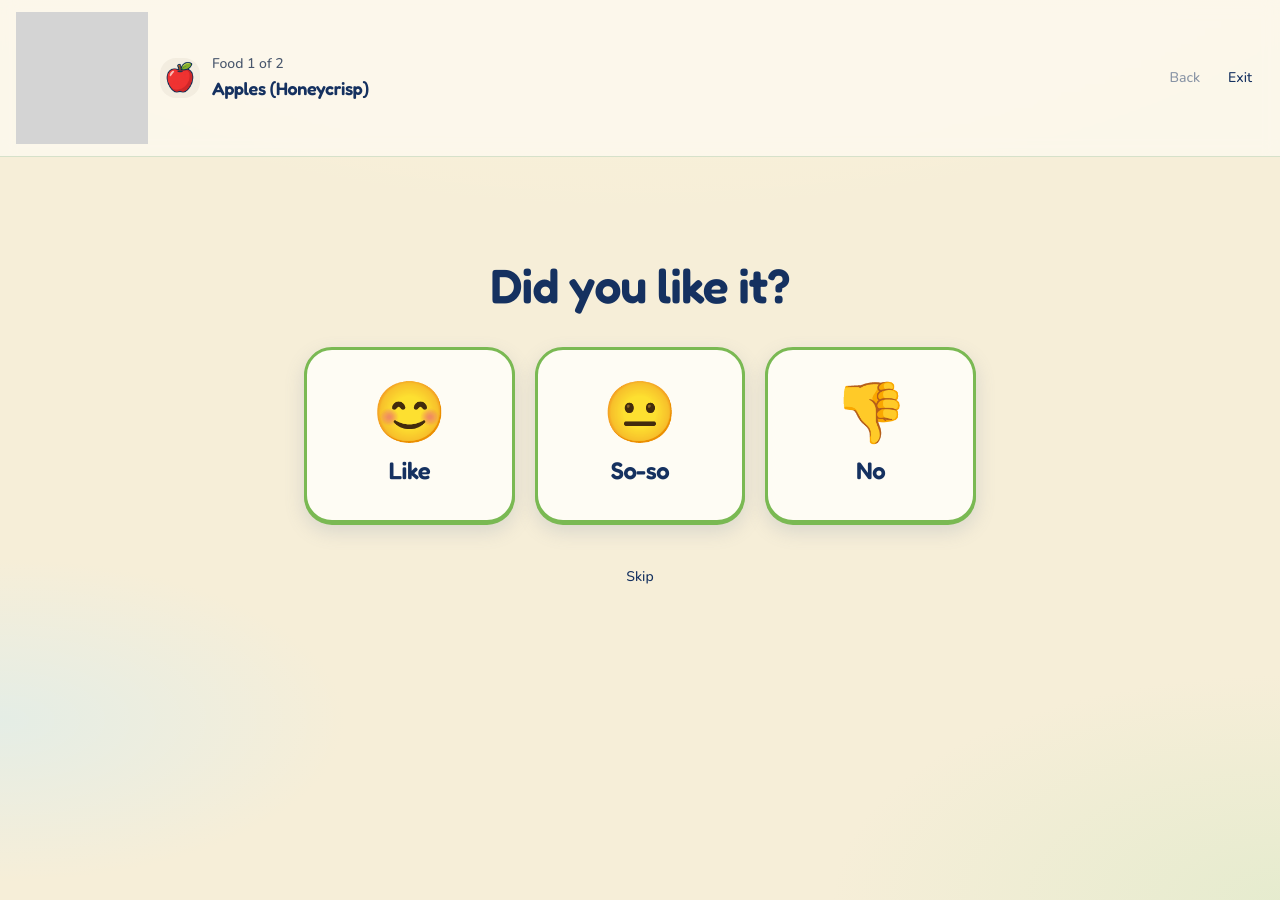
Test: RunSessionPage › shows like why chips and gates Continue until chip or note
The width and height of the screenshot is (1280, 900).
Click the option "😊 Like": (409, 435) top-left (304, 347), bottom-right (515, 523)
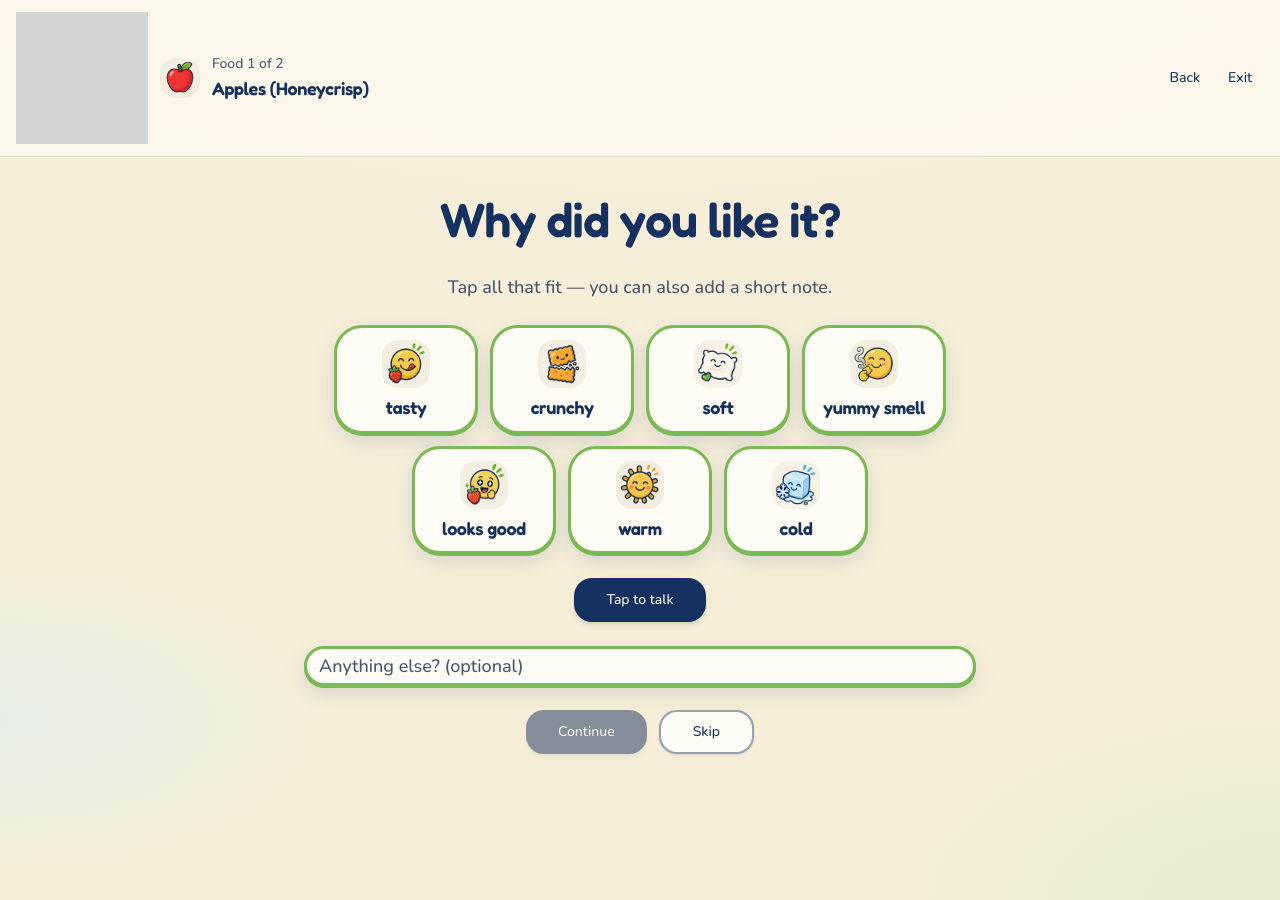
Now the element named "Why note" is shown, box top-left (304, 190), bottom-right (976, 754)
Now the heading "Why did you like it?" is shown, box top-left (440, 189), bottom-right (840, 249)
Now the button "tasty" is shown
Click the button "tasty": (406, 379) top-left (334, 325), bottom-right (478, 434)
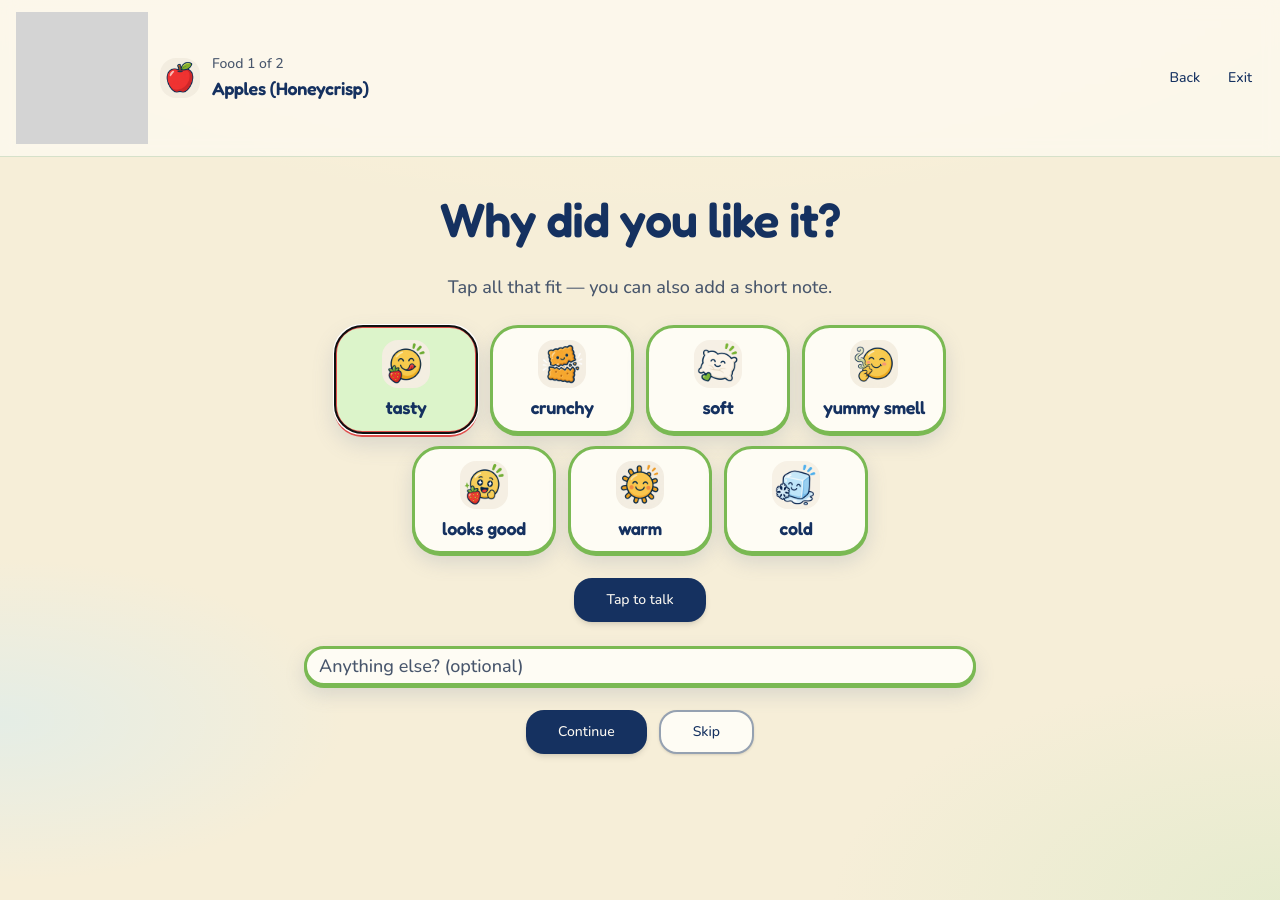
Now the 3rd picture is shown, box top-left (382, 340), bottom-right (430, 388)
Now the button "Continue" is enabled, box top-left (526, 710), bottom-right (647, 754)
